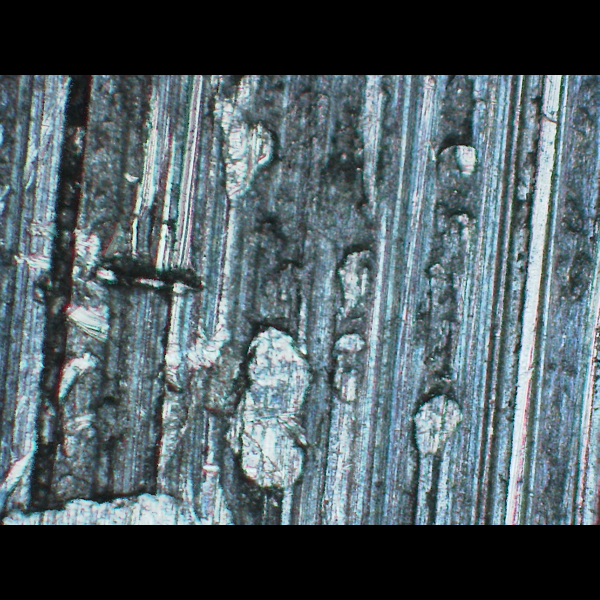d: (417, 137, 485, 384), (221, 322, 315, 500), (206, 90, 277, 208), (411, 391, 469, 462), (326, 322, 374, 407), (326, 248, 379, 318)
